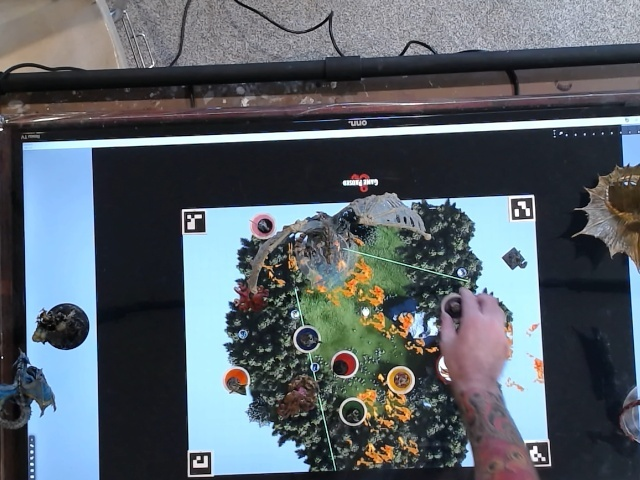blue: (289, 322, 324, 353)
green: (334, 392, 368, 425)
orange: (218, 363, 257, 398)
pink: (247, 212, 276, 240)
red: (326, 346, 358, 381)
violet: (436, 288, 474, 326)
yellow: (382, 363, 419, 397)
